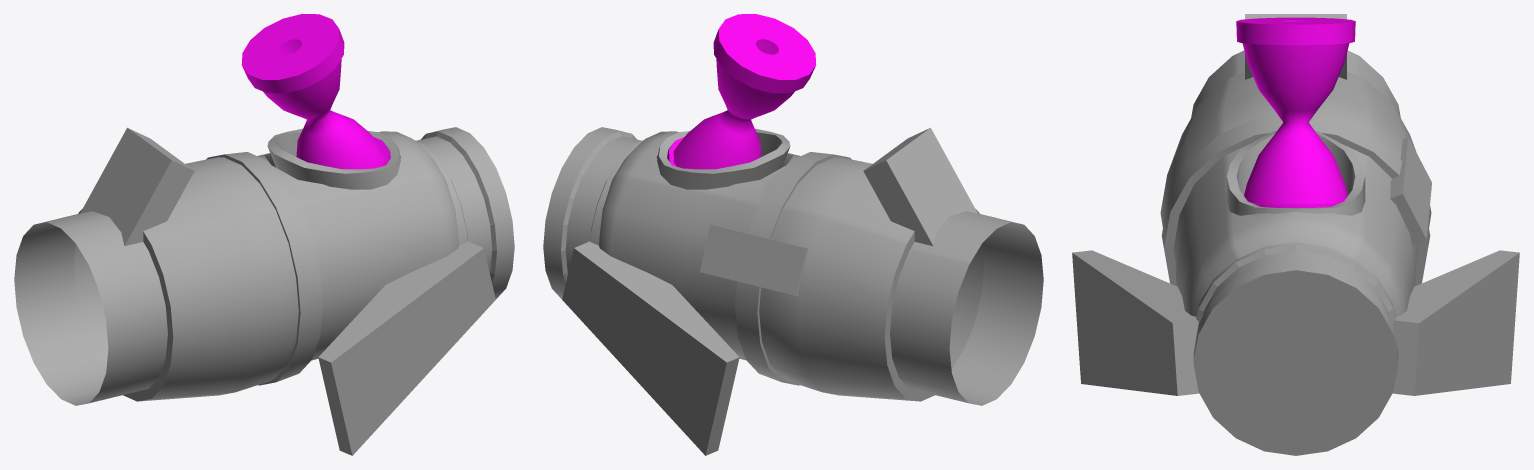
The model's file is Player Blaster V2_2.fbx.
3 renders of one model, left to right at view 1: azimuth 30°, elevation 25°; view 2: azimuth 150°, elevation 25°; view 3: azimuth 270°, elevation 25°, orthographic. The views are drawn at different scales.
Visible parts, largest first — view 1: pCylinder2, pCube2, Hourglass_Glass3, pCylinder4, pCube4, pCylinder7, pCylinder6; view 2: pCylinder2, pCube2, Hourglass_Glass3, pCylinder4, pCube4, pCube5, pCylinder7, pCylinder6; view 3: pCylinder4, pCube2, pCylinder2, Hourglass_Glass3, pCylinder7, pCylinder6, pCube5, pCube4.
Boxes of the visible parts, box(x1,y1,x2,y2) form: pCylinder2: box(14, 131, 458, 405); pCube2: box(318, 241, 495, 455); Hourglass_Glass3: box(241, 14, 390, 169); pCylinder4: box(414, 127, 514, 298); pCube4: box(80, 127, 194, 246); pCylinder7: box(206, 152, 322, 385); pCylinder6: box(267, 128, 401, 189); pCylinder2: box(599, 131, 1043, 405); pCube2: box(562, 241, 739, 455); Hourglass_Glass3: box(667, 14, 816, 169); pCylinder4: box(543, 127, 643, 298); pCube4: box(863, 127, 977, 246); pCube5: box(700, 224, 808, 295); pCylinder7: box(735, 152, 851, 385); pCylinder6: box(656, 128, 790, 189); pCylinder4: box(1193, 242, 1398, 455); pCube2: box(1072, 250, 1519, 395); pCylinder2: box(1160, 50, 1431, 316); Hourglass_Glass3: box(1236, 17, 1355, 207); pCylinder7: box(1161, 114, 1430, 286); pCylinder6: box(1226, 131, 1365, 215); pCube5: box(1390, 137, 1431, 245); pCube4: box(1245, 14, 1346, 79).
Size of the model in its own units: 297 by 243 by 246.
